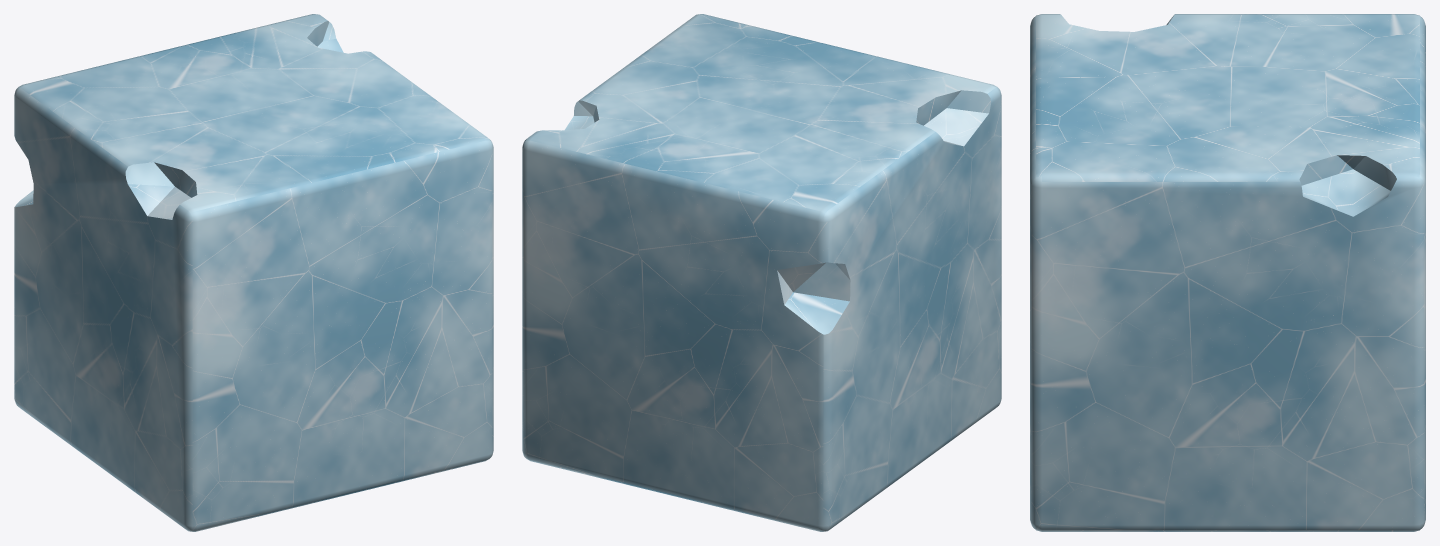
The model's file is SM_IceBlock_200.fbx.
The picture shows the model from 3 angles, left to right: view 1: azimuth 30°, elevation 25°; view 2: azimuth 150°, elevation 25°; view 3: azimuth 270°, elevation 25°; orthographic projection. The views are drawn at different scales.
Visible parts, largest first — view 1: SM_IceBlock_200; view 2: SM_IceBlock_200; view 3: SM_IceBlock_200.
Boxes of the visible parts, box(x1,y1,x2,y2) form: SM_IceBlock_200: box(14, 14, 493, 531); SM_IceBlock_200: box(522, 14, 1001, 531); SM_IceBlock_200: box(1030, 14, 1425, 531).
Size of what is drawn, in the model's own units: 200 by 200 by 200.
